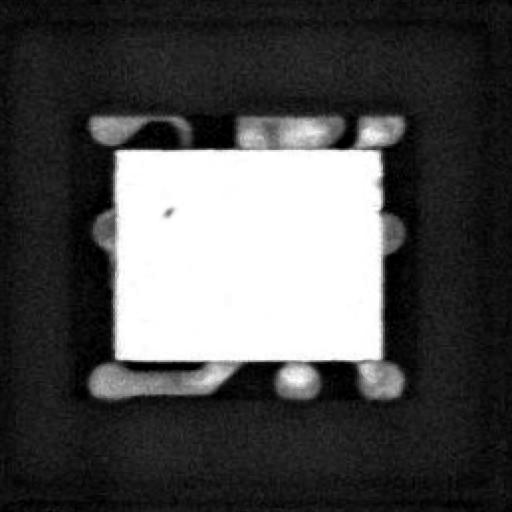DIE_INK: (150, 210, 167, 228)
